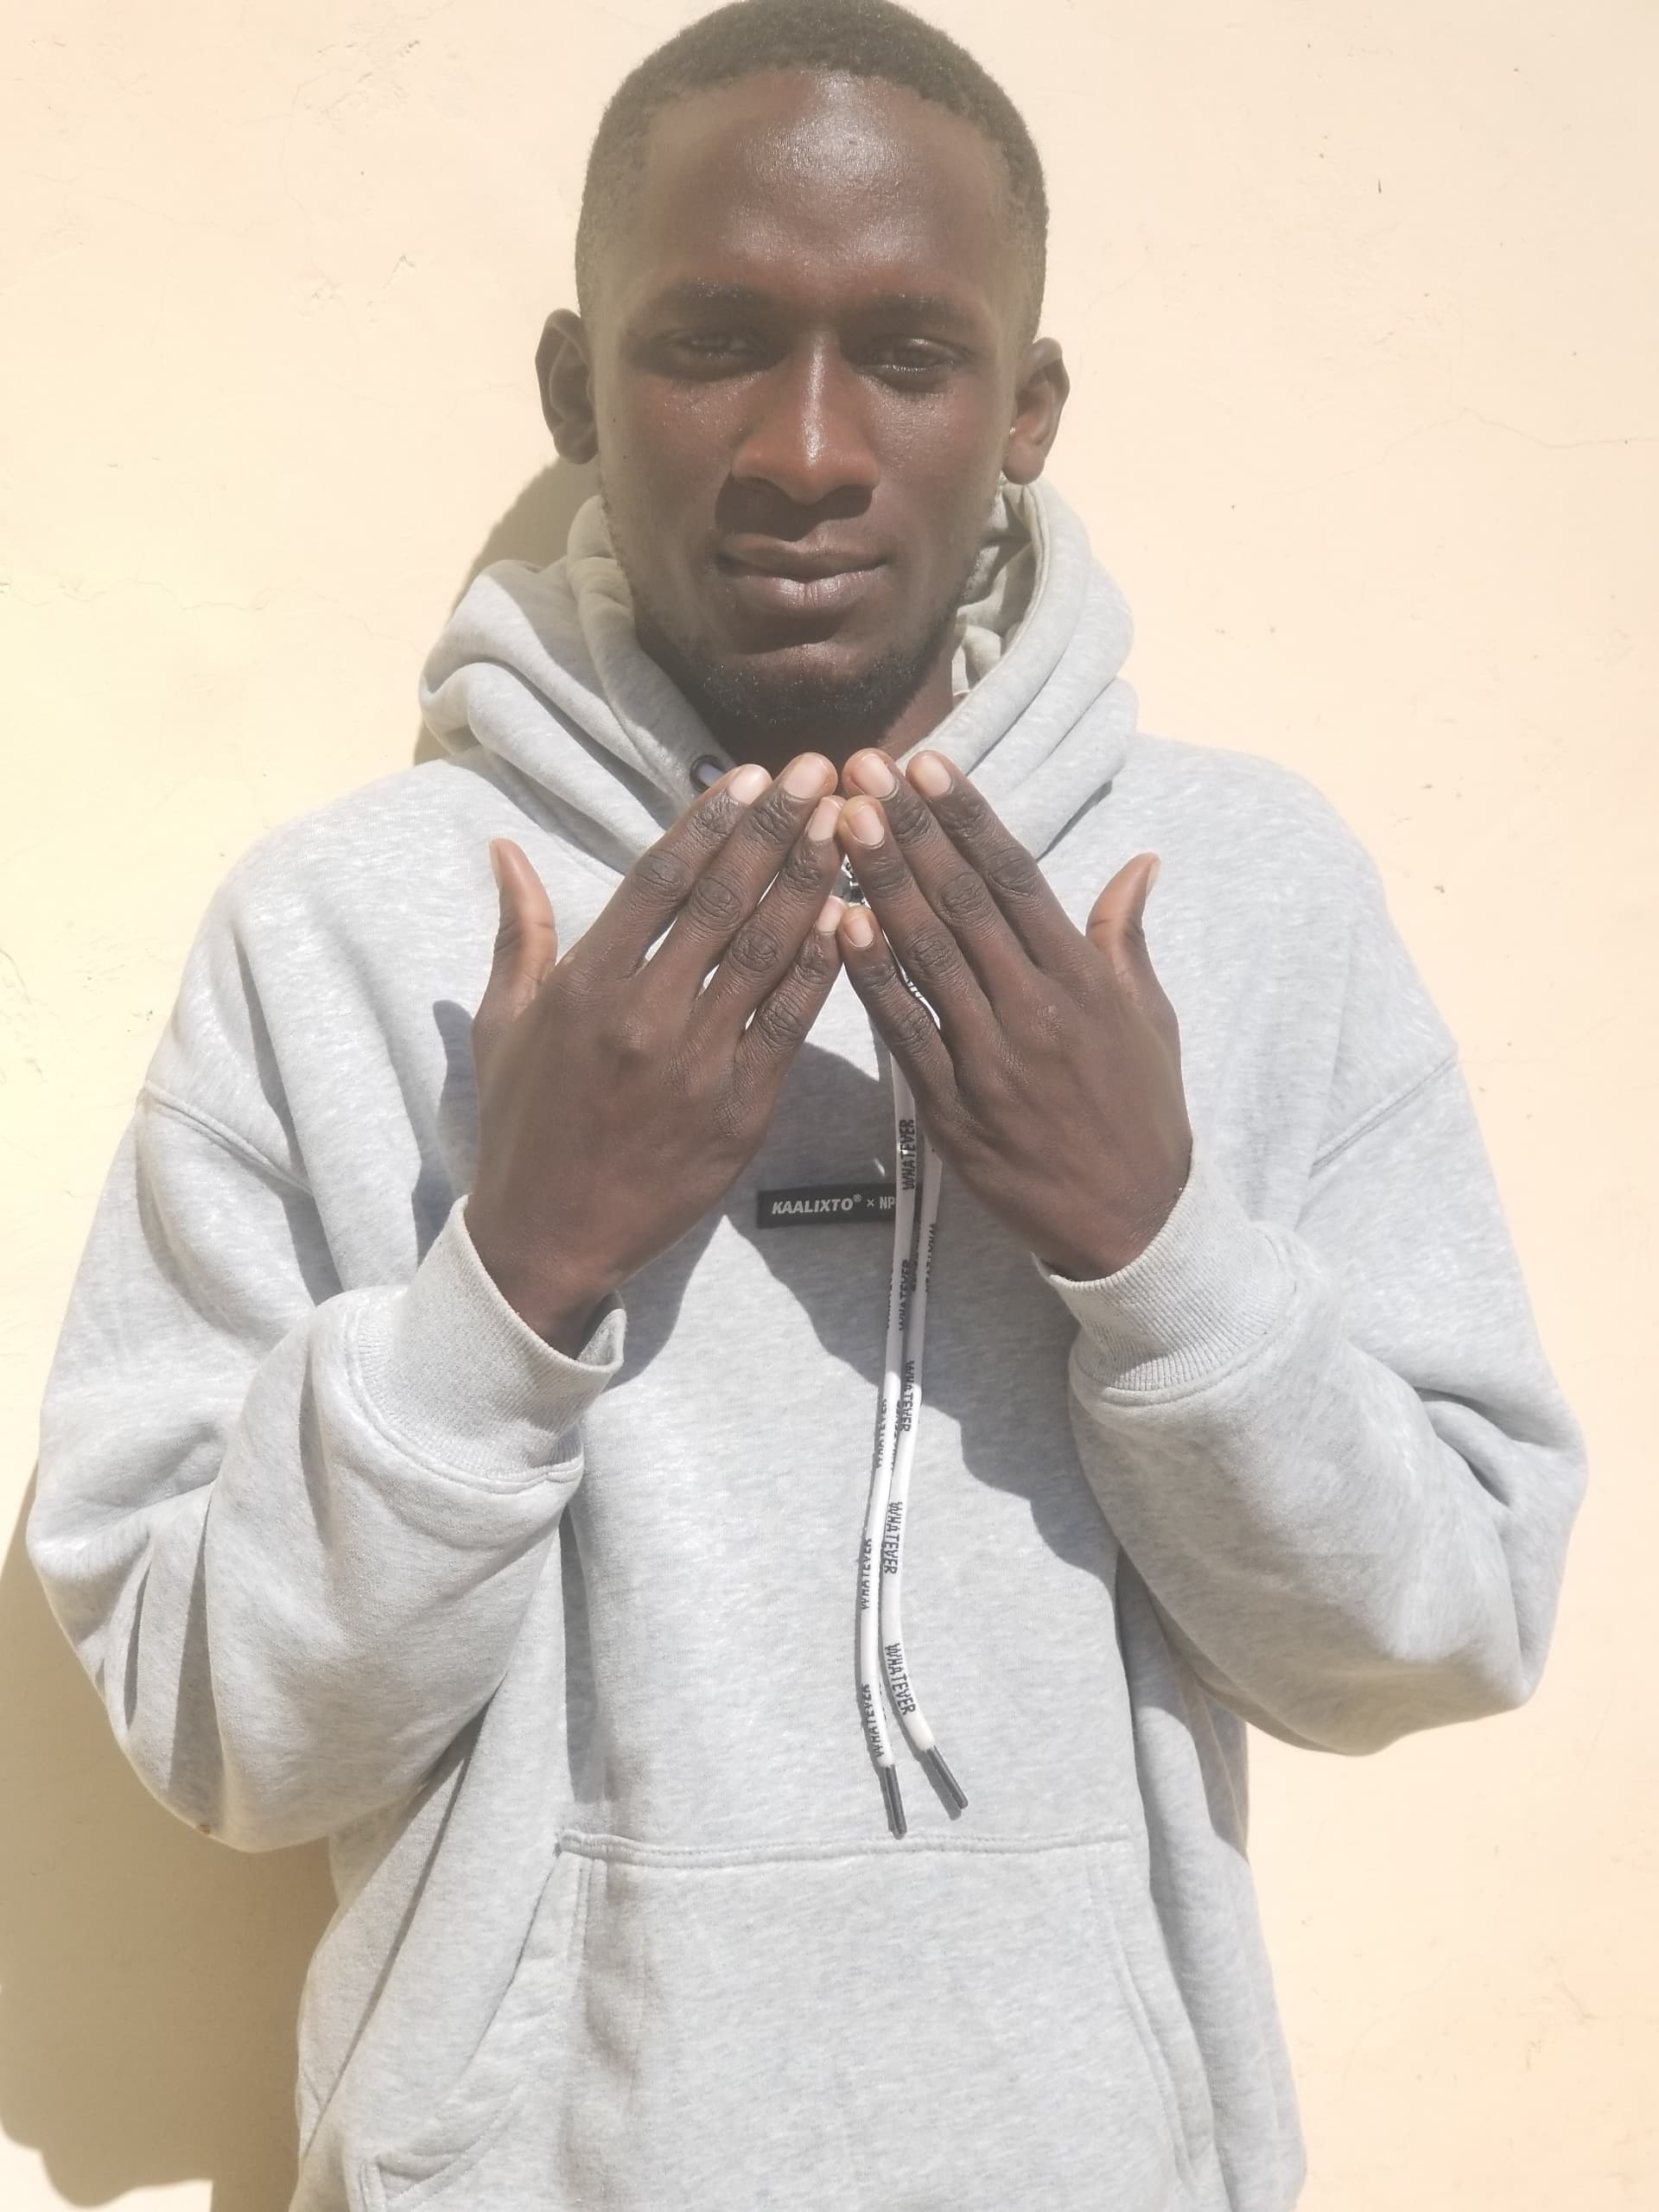thankyou: (383, 697, 1286, 1554)
